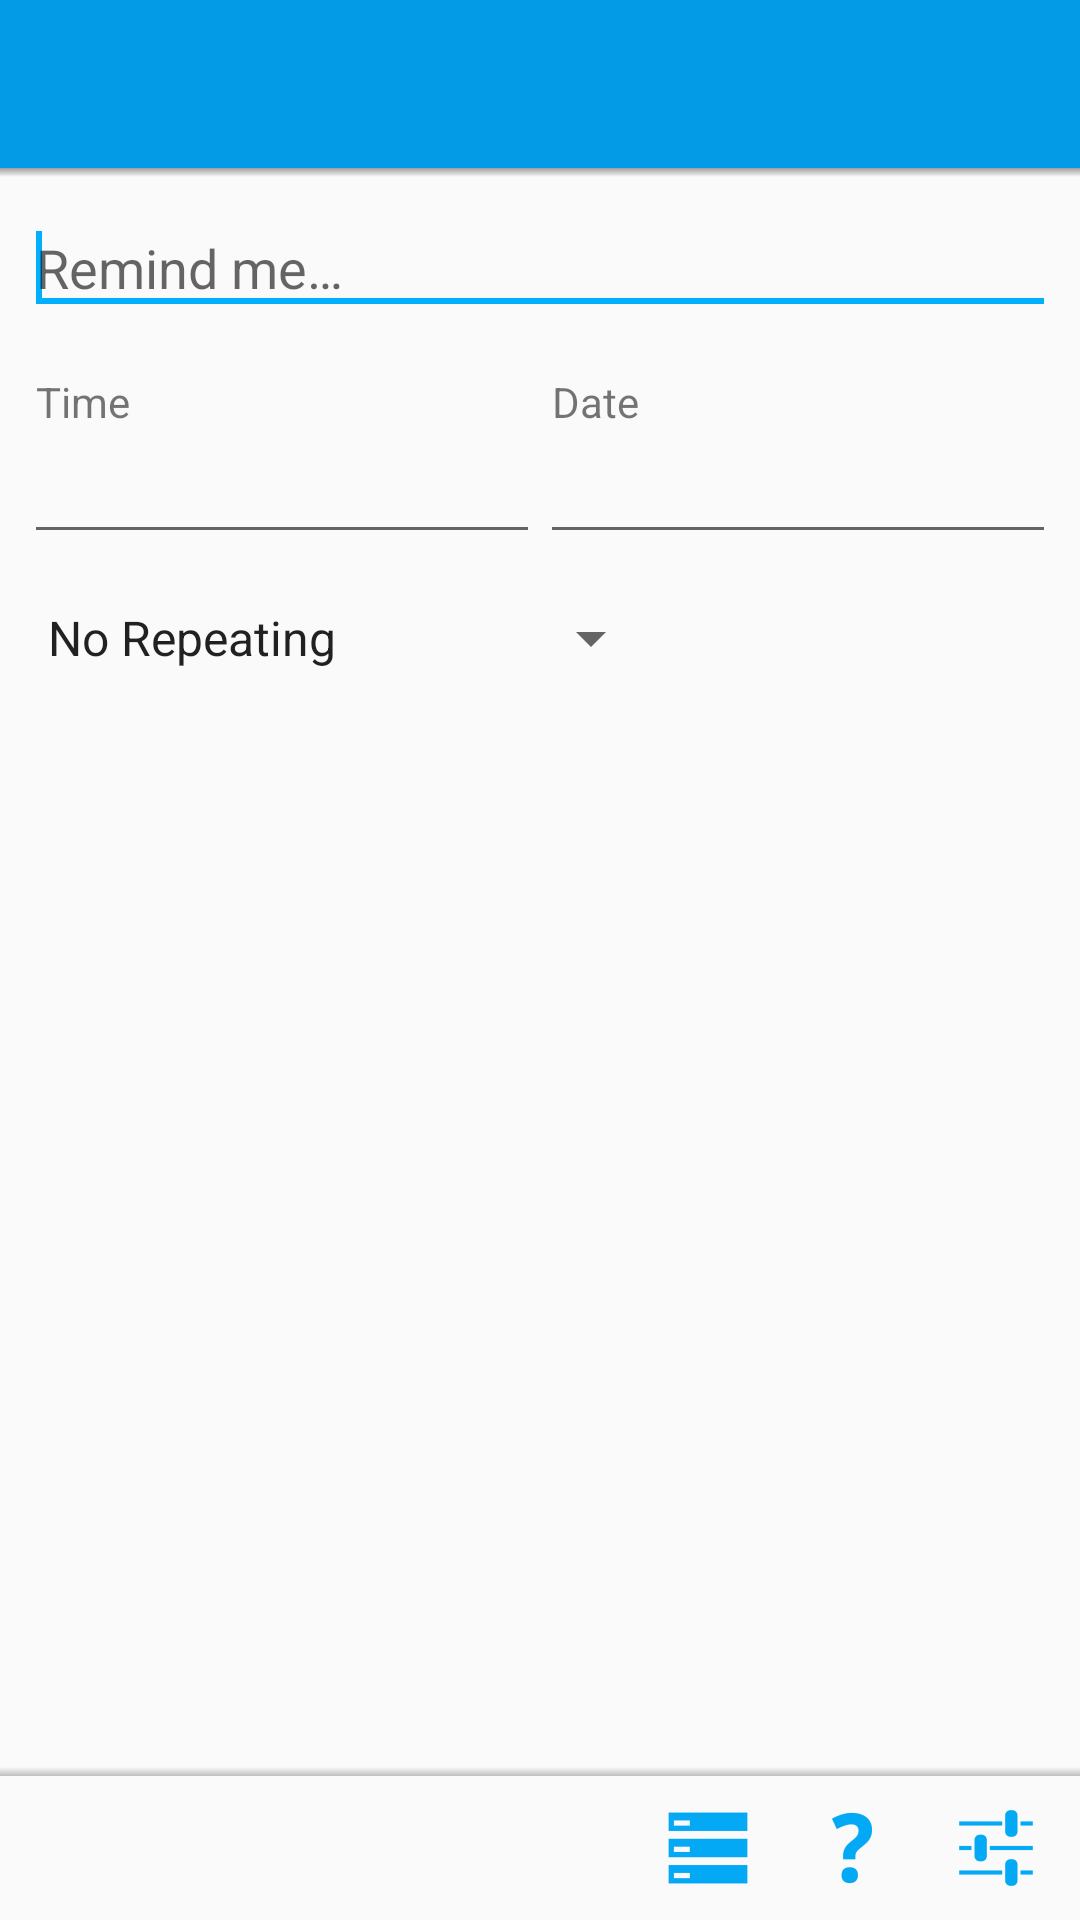

Where icons sit on this 1080 x 1920 app screen, as (x1, y1, x2, y2):
Help: (832, 1813, 872, 1883)
Settings: (959, 1810, 1033, 1886)
Show Reminders: (668, 1812, 748, 1884)
